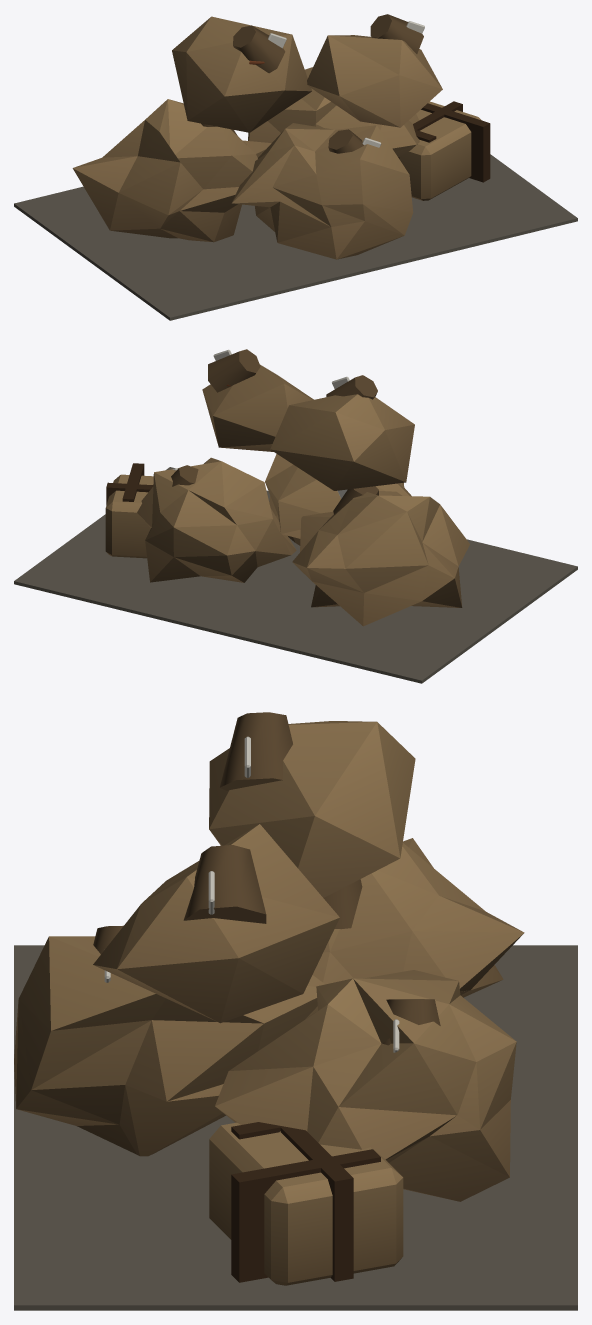
The model's file is mail-sack-pile.glb.
3 views of the same model, one above another, from view 1: azimuth 30°, elevation 25°; view 2: azimuth 150°, elevation 25°; view 3: azimuth 270°, elevation 25° (orthographic). The views are drawn at different scales.
Parts seen in each view (by area): view 1: mail_sack_pile; view 2: mail_sack_pile; view 3: mail_sack_pile.
Part boxes in pixels (x1,y1,x2,y2): mail_sack_pile: (14,14,577,320); mail_sack_pile: (14,349,577,683); mail_sack_pile: (14,712,577,1310).
Size of the model in its own units: 1.66 by 0.8152 by 1.1.
